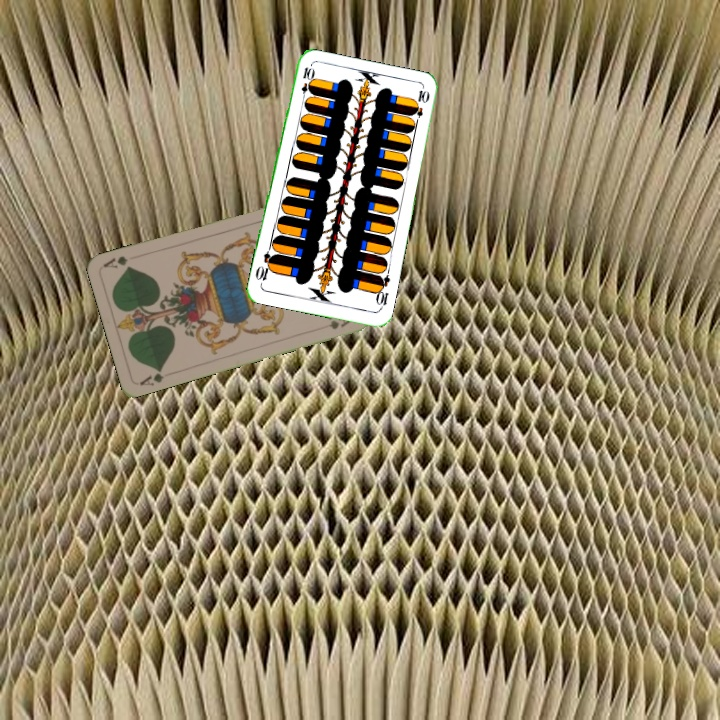E10: (372, 272, 393, 312), (297, 63, 315, 104)
GA: (135, 365, 166, 388)
